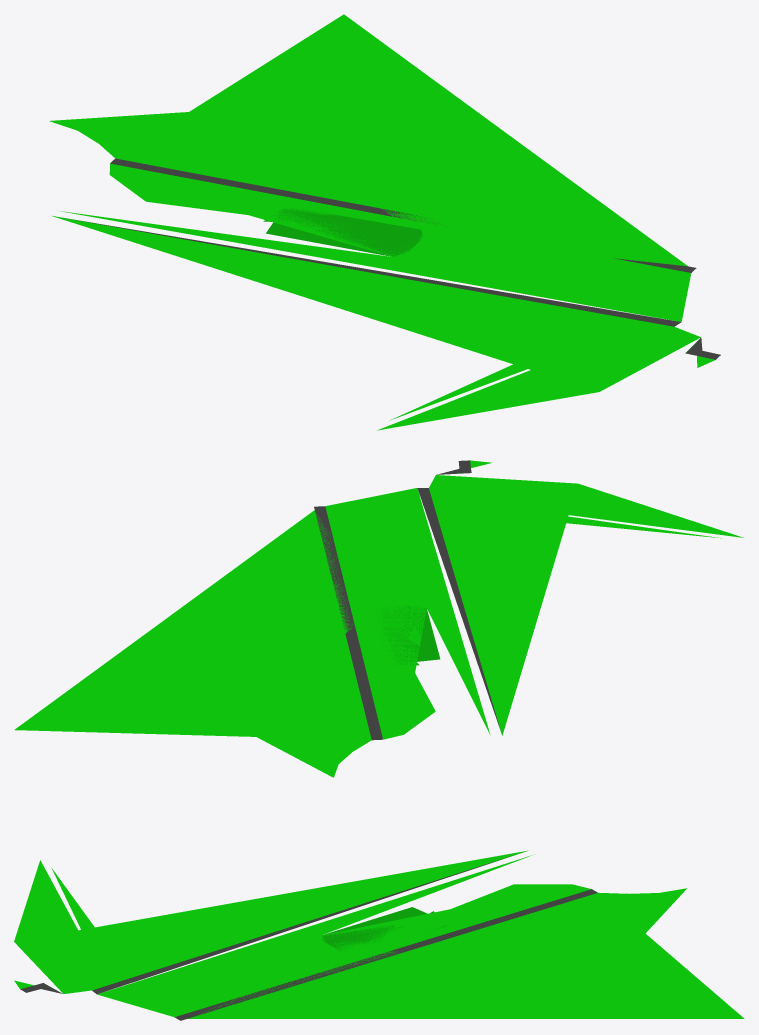
3 views of the same model, one above another, from view 1: azimuth 30°, elevation 25°; view 2: azimuth 150°, elevation 25°; view 3: azimuth 270°, elevation 25° (orthographic). The views are drawn at different scales.
Size of the model in its own units: 167 by 0 by 240.
